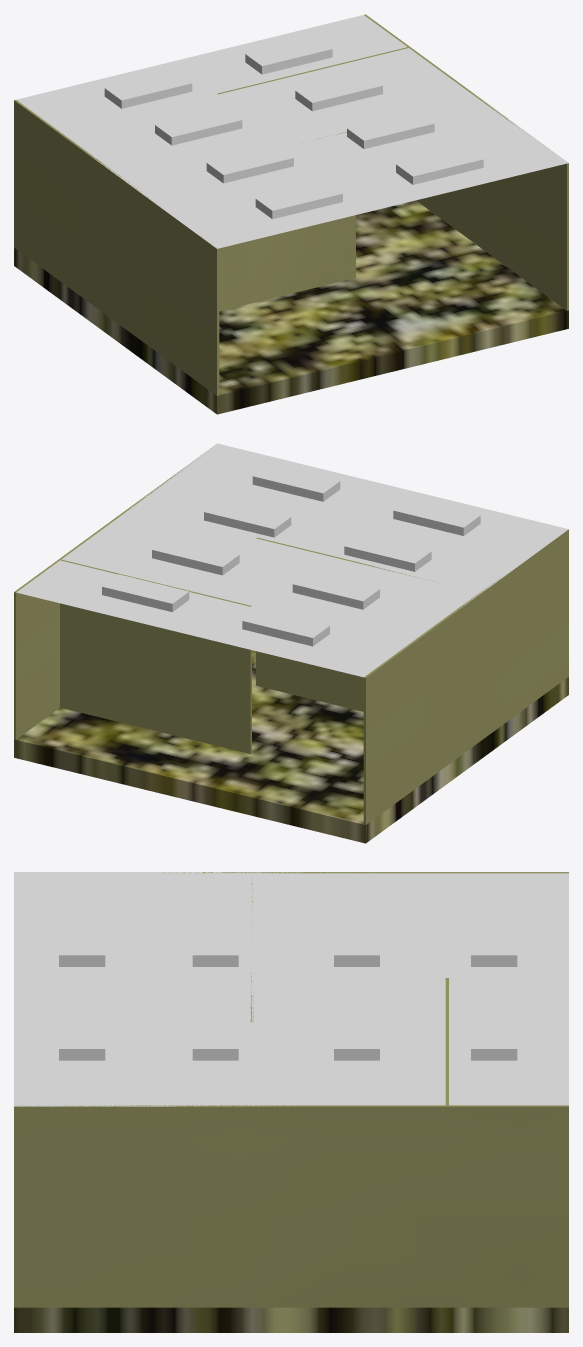
File: BackroomsLevelZero - 4.fbx
3 views of the same model, one above another, from view 1: azimuth 30°, elevation 25°; view 2: azimuth 150°, elevation 25°; view 3: azimuth 270°, elevation 25° (orthographic). The views are drawn at different scales.
Parts seen in each view (by area): view 1: Floor.027, Floor.005, Wall.015, Wall.014, Wall.016, Cube.115, Cube.122, Cube.117, Cube.118, Cube.119, Cube.120, Cube.121 (+1 smaller); view 2: Floor.027, Floor.005, Wall.015, Wall.011, Wall.014, Wall.016, Cube.122, Cube.115, Cube.116, Cube.120, Cube.118, Cube.119 (+2 smaller); view 3: Wall.014, Floor.027, Floor.005, Cube.115, Cube.117, Cube.118, Cube.120, Cube.121, Cube.122, Cube.116, Cube.119, Wall.015.
Part boxes in pixels (x1,y1,x2,y2): Floor.027: (16, 15, 568, 248); Floor.005: (14, 200, 568, 414); Wall.015: (14, 100, 219, 395); Wall.014: (364, 14, 568, 310); Wall.016: (129, 131, 355, 332); Cube.115: (104, 71, 192, 108); Cube.122: (396, 147, 483, 184); Cube.117: (206, 145, 293, 183); Cube.118: (245, 36, 332, 74); Cube.119: (295, 73, 382, 111); Cube.120: (347, 111, 434, 148); Cube.121: (255, 181, 342, 219); Floor.027: (16, 443, 568, 677); Floor.005: (14, 650, 568, 843); Wall.015: (363, 529, 568, 824); Wall.011: (58, 559, 251, 753); Wall.014: (14, 451, 206, 739); Wall.016: (256, 537, 482, 740); Cube.122: (252, 464, 340, 501); Cube.115: (242, 608, 329, 646); Cube.116: (292, 572, 379, 609); Cube.120: (204, 499, 291, 537); Cube.118: (102, 574, 189, 612); Cube.119: (152, 537, 239, 575); Wall.014: (14, 1105, 568, 1307); Floor.027: (14, 872, 568, 1106); Floor.005: (14, 1307, 568, 1332); Cube.115: (471, 908, 517, 966); Cube.117: (192, 908, 238, 966); Cube.118: (471, 1002, 517, 1060); Cube.120: (192, 1002, 238, 1060); Cube.121: (59, 908, 105, 966); Cube.122: (59, 1002, 105, 1060); Cube.116: (334, 908, 379, 966); Cube.119: (334, 1002, 379, 1060); Wall.015: (138, 872, 568, 873).
Bounding box in the file's own units: 2000 × 946 × 2000.
